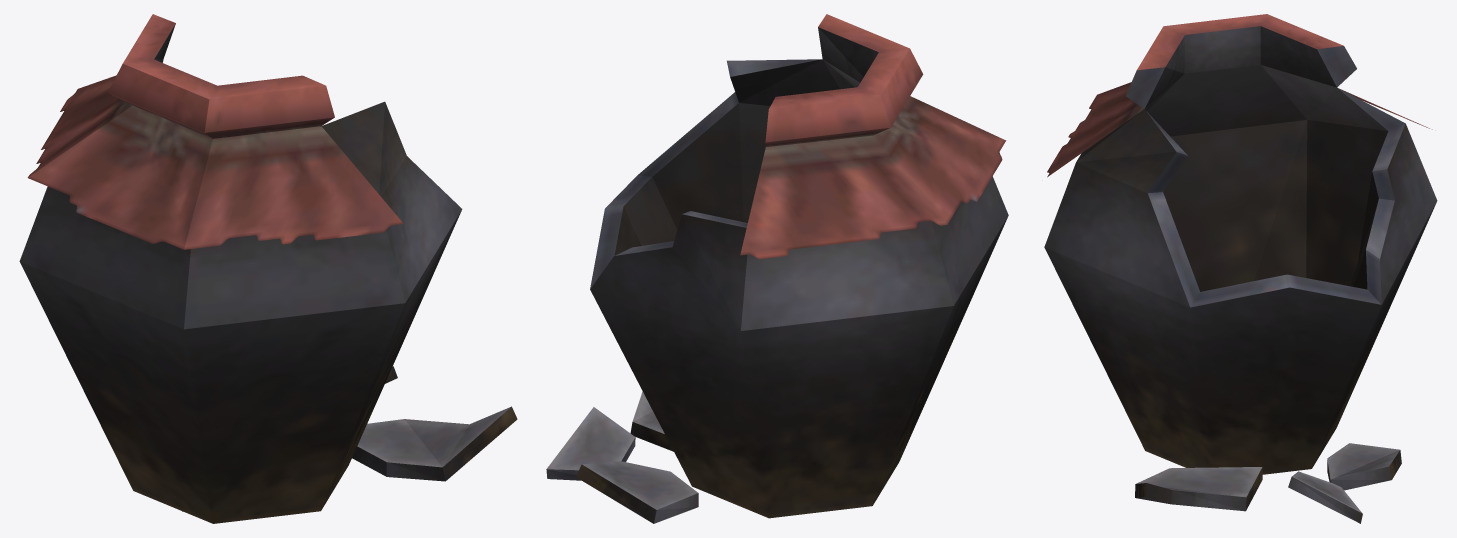
3 views of the same model, side by side, from view 1: azimuth 30°, elevation 25°; view 2: azimuth 150°, elevation 25°; view 3: azimuth 270°, elevation 25° (orthographic). The views are drawn at different scales.
Parts seen in each view (by area): view 1: qingmo_obj_426 [10484351]; view 2: qingmo_obj_426 [10484351]; view 3: qingmo_obj_426 [10484351].
Boxes of the visible parts, bbox=[...] form: qingmo_obj_426 [10484351]: bbox=[19, 14, 517, 523]; qingmo_obj_426 [10484351]: bbox=[546, 14, 1008, 523]; qingmo_obj_426 [10484351]: bbox=[1044, 14, 1437, 523].
Size of the model in its own units: 3.25 by 3.03 by 3.2.
Materials: 1 (1 with a texture image).
